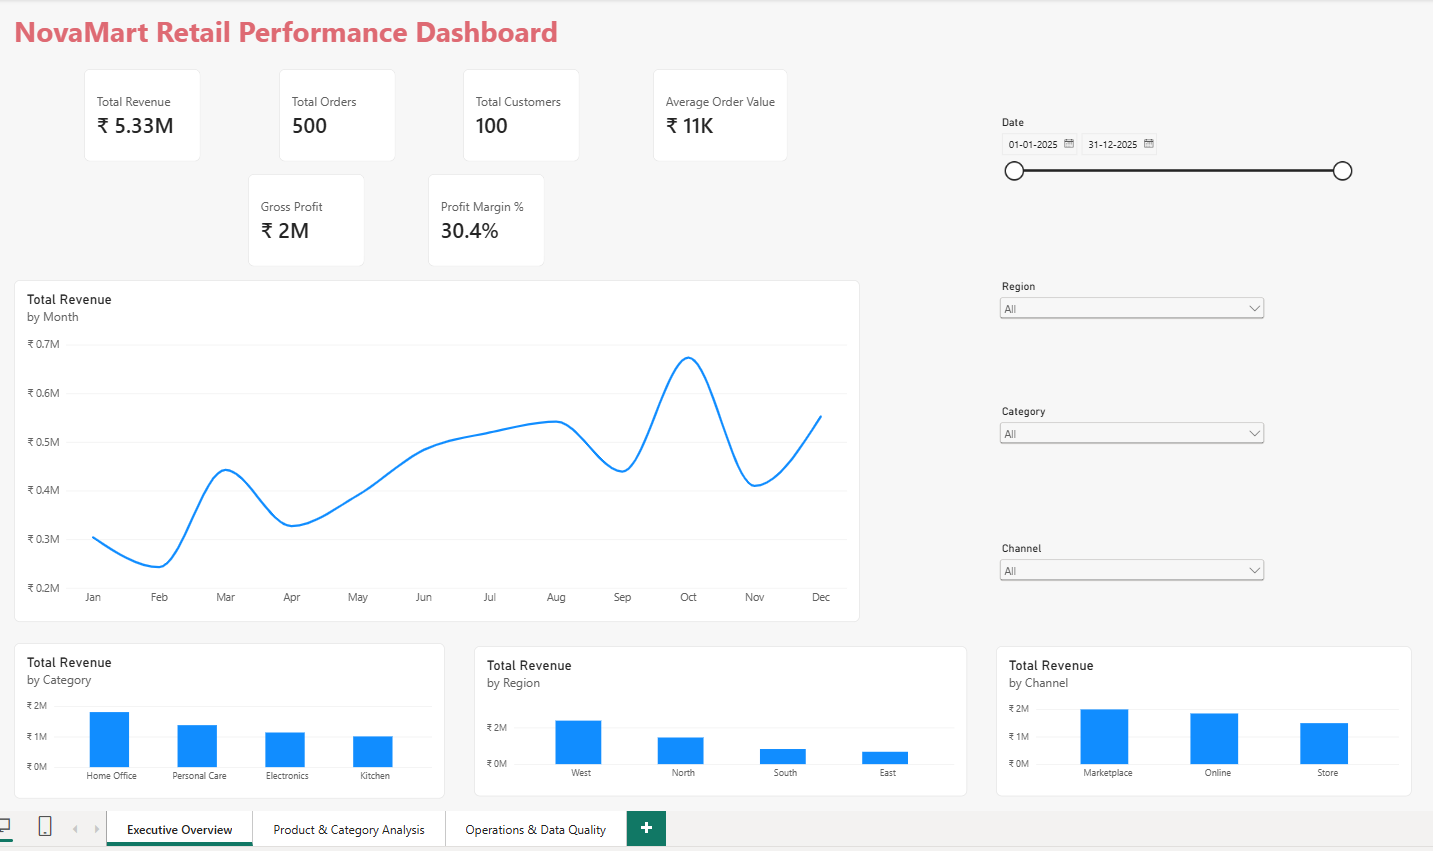

What the dashboard file says about the page in this screenshot:
{"tool":"powerbi","page":{"name":"Executive Overview","canvas":[1920,1080],"ordinal":0},"visuals":[{"type":"cardVisual","fields":{"Data":["Sales.Total Revenue"]},"box":[113.1,93.1,155.6,123.7],"z":0},{"type":"cardVisual","fields":{"Data":["orders.Total Orders"]},"box":[372.4,93.1,155.6,123.7],"z":1000},{"type":"cardVisual","fields":{"Data":["customers.Total Customers"]},"box":[617.1,93.1,155.6,123.7],"z":2000},{"type":"cardVisual","fields":{"Data":["Sales.Average Order Value"]},"box":[869.9,93.1,179.6,123.7],"z":3000},{"type":"cardVisual","fields":{"Data":["Sales.Gross Profit"]},"box":[331.2,232.8,155.6,123.7],"z":4000},{"type":"cardVisual","fields":{"Data":["Sales.Profit Margin %"]},"box":[570.6,232.8,155.6,123.7],"z":5000},{"type":"lineChart","fields":{"Category":["Date.Month"],"Y":["Sales.Total Revenue"]},"box":[20,373.7,1125.2,454.9],"z":6000},{"type":"clusteredColumnChart","fields":{"Category":["products.Category"],"Y":["Sales.Total Revenue"]},"box":[20,856.6,573.3,207.5],"z":7000},{"type":"clusteredColumnChart","fields":{"Category":["customers.Region"],"Y":["Sales.Total Revenue"]},"box":[631.8,860.5,655.7,199.5],"z":8000},{"type":"clusteredColumnChart","fields":{"Category":["orders.Channel"],"Y":["Sales.Total Revenue"]},"box":[1326.1,860.5,553.3,199.5],"z":9000},{"type":"slicer","fields":{"Values":["Date.Date"]},"box":[1326.1,155.6,476.2,160.9],"z":10000},{"type":"slicer","fields":{"Values":["customers.Region"]},"box":[1326.1,373.7,361.8,98.4],"z":11000},{"type":"slicer","fields":{"Values":["products.Category"]},"box":[1326.1,540,361.8,95.8],"z":12000},{"type":"slicer","fields":{"Values":["orders.Channel"]},"box":[1326.1,722.2,361.8,106.4],"z":13000},{"type":"textbox","box":[20,17.3,752.8,49.2],"z":14000}]}

Visuals, with their boxes on the page's 1920x1080 design canvas (x1, y1, x2, y2). These are canvas units, not pixel positions in the 1433x851 screenshot, which may show the page scaled, cropped or inside an application window:
cardVisual - Sales.Total Revenue: 113:93:269:217
cardVisual - orders.Total Orders: 372:93:528:217
cardVisual - customers.Total Customers: 617:93:773:217
cardVisual - Sales.Average Order Value: 870:93:1050:217
cardVisual - Sales.Gross Profit: 331:233:487:356
cardVisual - Sales.Profit Margin %: 571:233:726:356
lineChart - Date.Month x Sales.Total Revenue: 20:374:1145:829
clusteredColumnChart - products.Category x Sales.Total Revenue: 20:857:593:1064
clusteredColumnChart - customers.Region x Sales.Total Revenue: 632:860:1288:1060
clusteredColumnChart - orders.Channel x Sales.Total Revenue: 1326:860:1879:1060
slicer - Date.Date: 1326:156:1802:316
slicer - customers.Region: 1326:374:1688:472
slicer - products.Category: 1326:540:1688:636
slicer - orders.Channel: 1326:722:1688:829
textbox: 20:17:773:66
